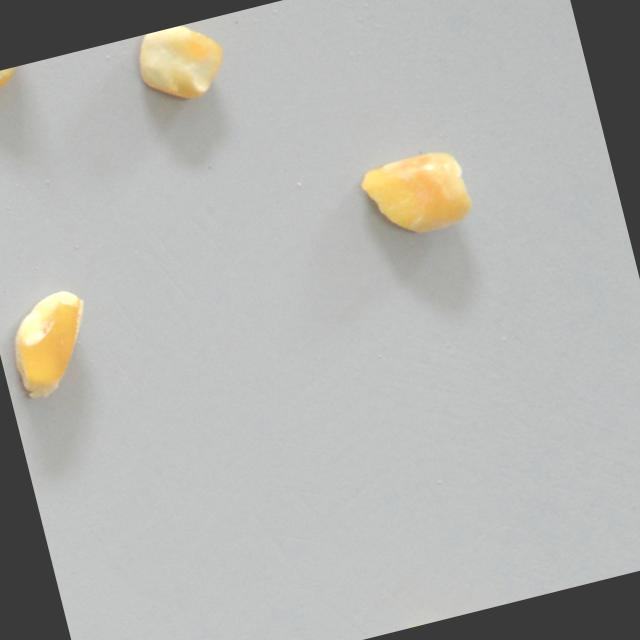estandar: (128, 16, 235, 113), (0, 61, 43, 94)
pelicula: (360, 130, 477, 256), (0, 285, 107, 404)
